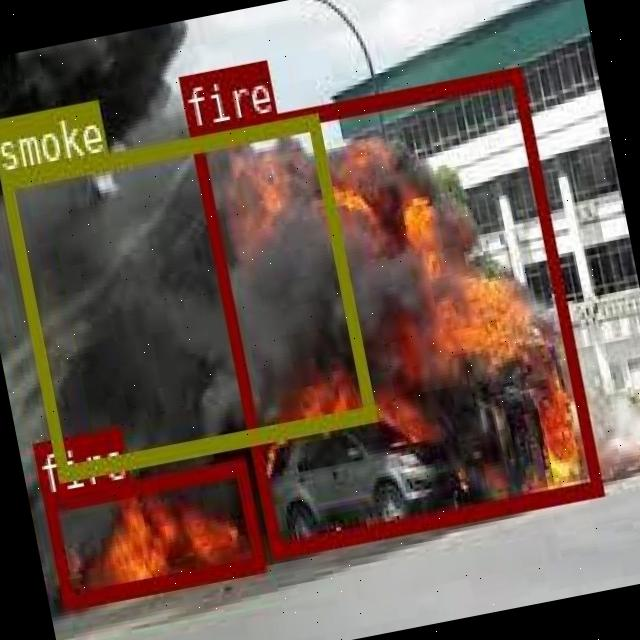fire: (187, 66, 601, 556), (42, 459, 262, 609)
smoke: (0, 113, 375, 481)
